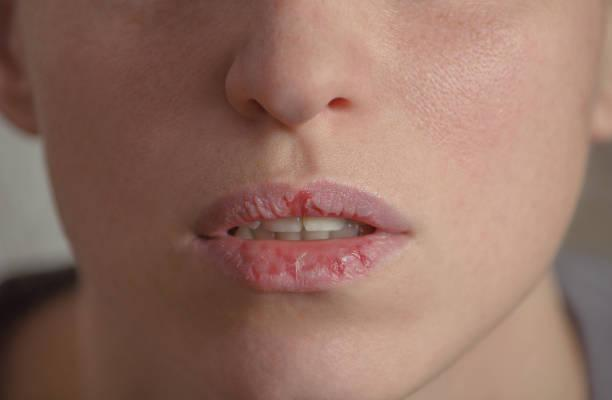Dry-Skin: (200, 9, 383, 147), (238, 289, 350, 398), (70, 29, 164, 150), (426, 18, 522, 131), (104, 227, 192, 328), (483, 147, 538, 230), (460, 208, 532, 263)
